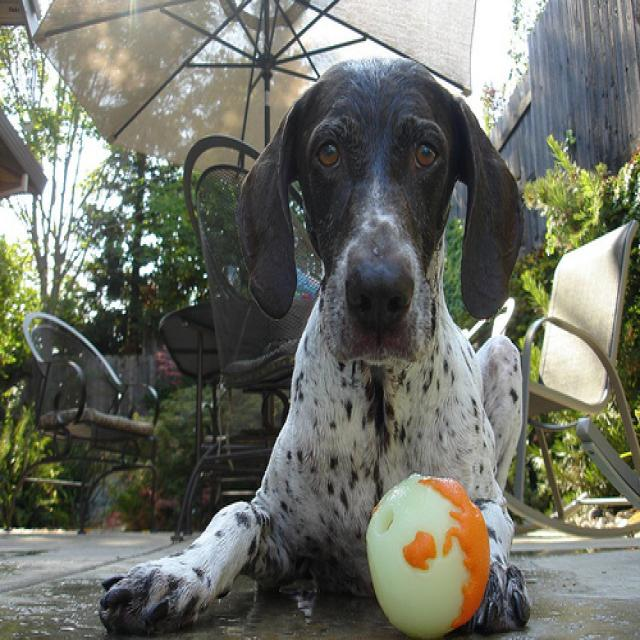dog-german_shorthaired: (87, 49, 544, 637)
